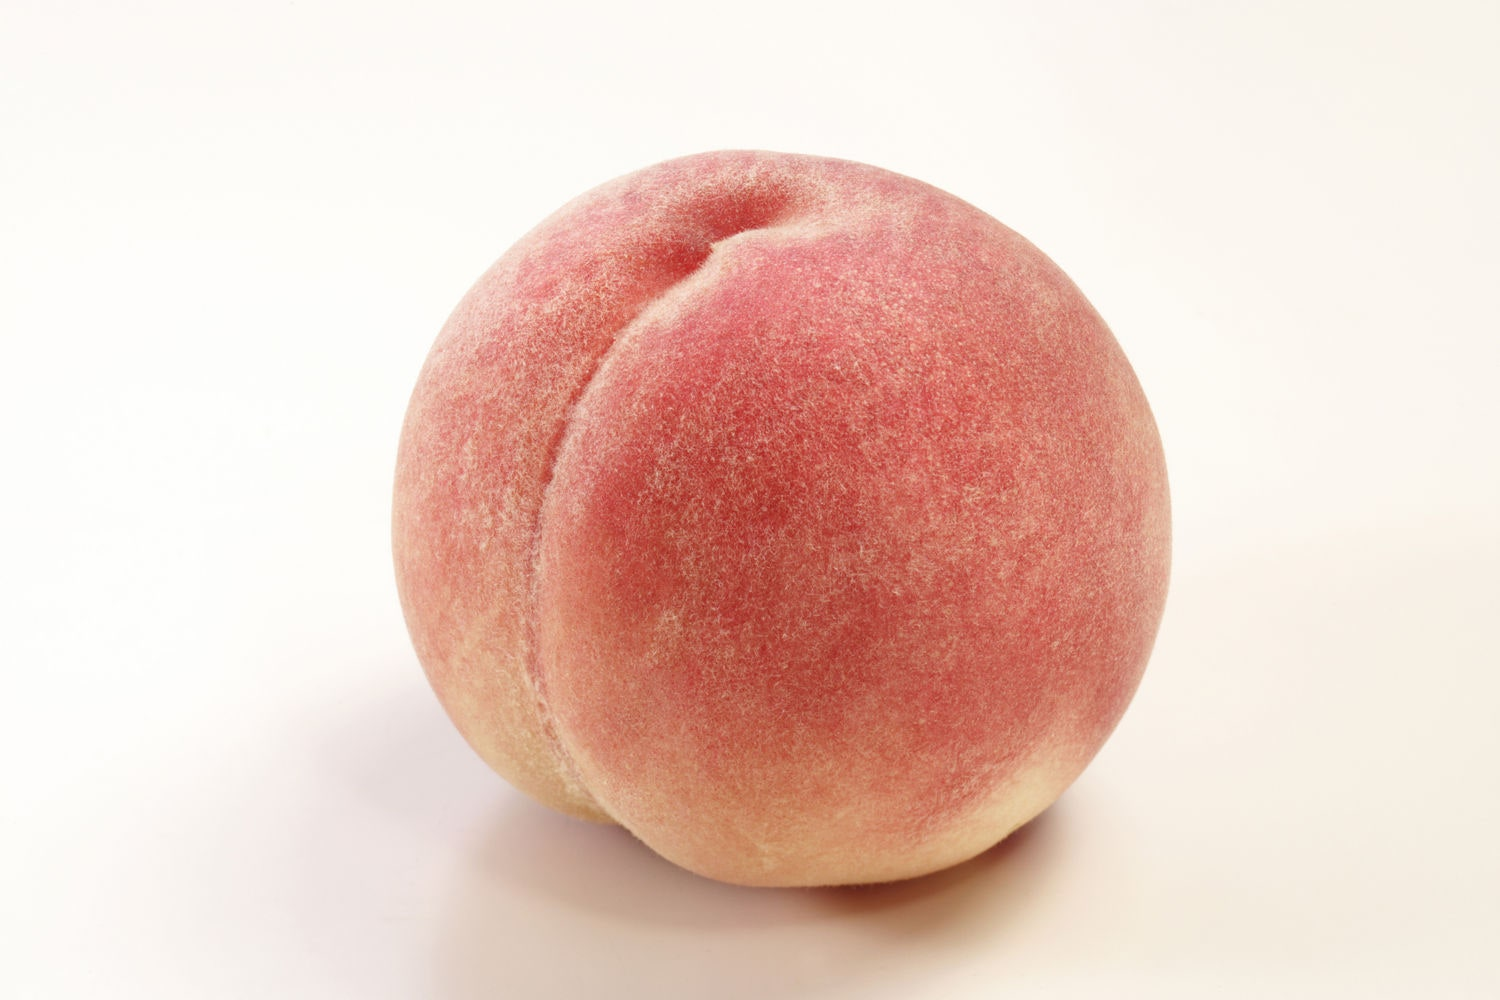peach: (388, 151, 1171, 891)
